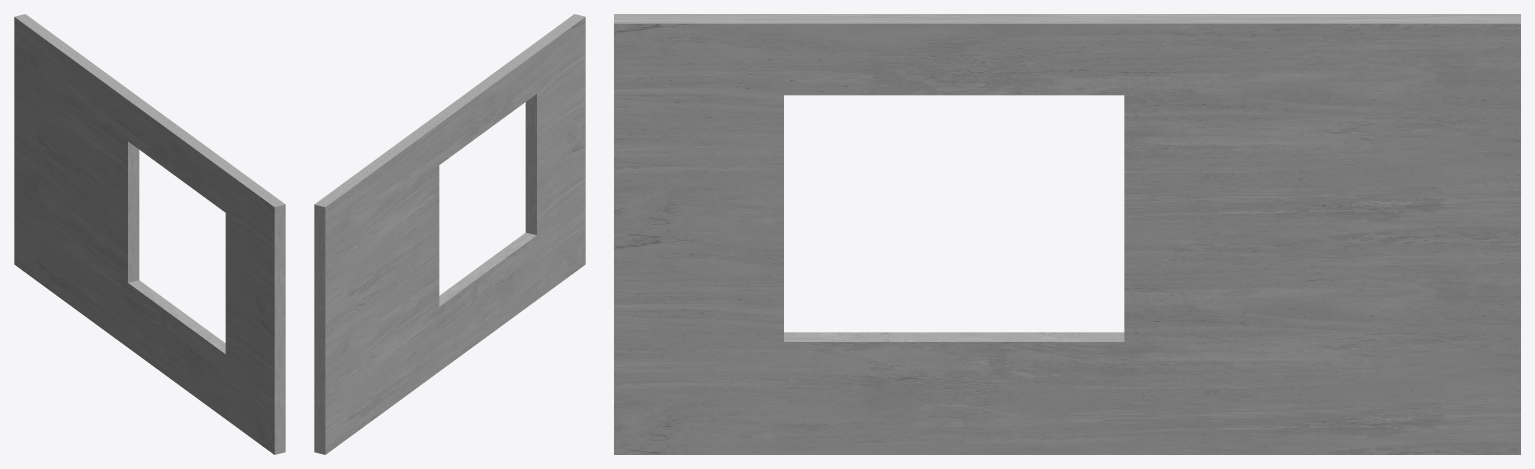
The model's file is Wall8x8-Window2.glb.
3 renders of one model, left to right at view 1: azimuth 30°, elevation 25°; view 2: azimuth 150°, elevation 25°; view 3: azimuth 270°, elevation 25°, orthographic. The views are drawn at different scales.
Parts seen in each view (by area): view 1: Wall-8-Window-2; view 2: Wall-8-Window-2; view 3: Wall-8-Window-2.
Boxes of the visible parts, x1,y1,x2,y2 form: Wall-8-Window-2: (14,14,285,454); Wall-8-Window-2: (314,14,585,454); Wall-8-Window-2: (614,14,1520,454).
Bounding box in the file's own units: 0.2 × 4.2 × 8.
1 material, 1 textured.
